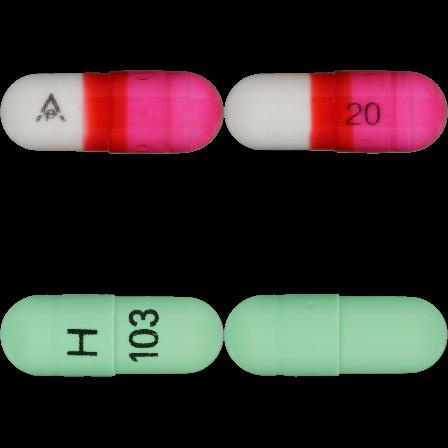50090-0046: (0, 0, 224, 224)
